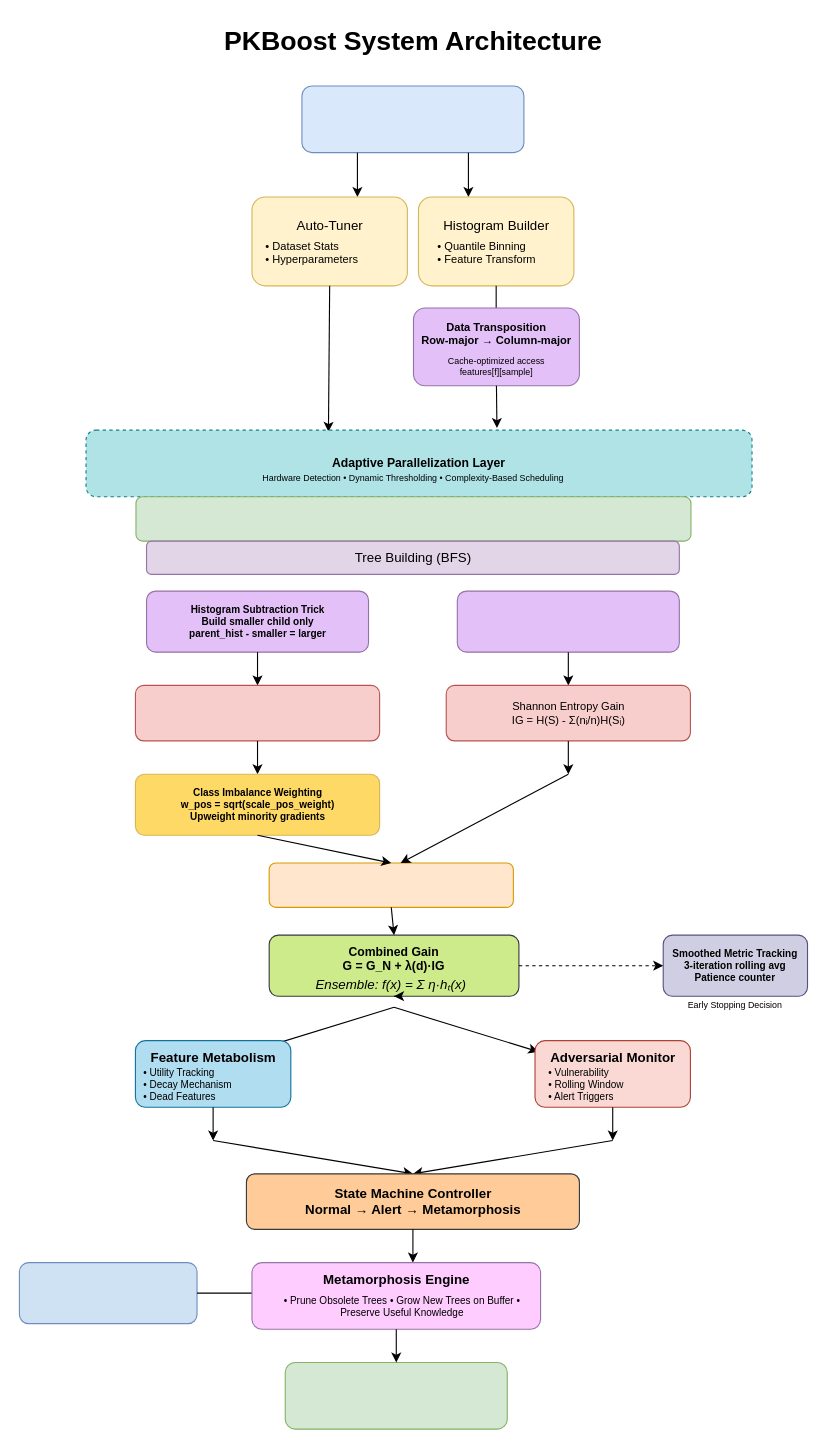
Some shapes in this 827 by 1449 pixel diagram are drawn without their labels. Here are the shapes that lost their labels. From the top down, the centre of each, then its label:
At pixel 412 119: "Input Data D = {(xᵢ, yᵢ)}".
At pixel 413 518: "Primary Ensemble (Gradient Boosting)".
At pixel 567 621: "Split Selection Find best threshold".
At pixel 257 712: "Newton Gain G_N = 0.5[GL²/(HL+λ) + GR²/(HR+λ) - G²/H]".
At pixel 390 884: "Adaptive Weighting λ(d) = μ·exp(-β·d)".
At pixel 107 1293: "Rolling Buffer (FIFO Queue) Size: 10K-20K samples Maintains recent distribution".
At pixel 395 1395: "Adapted Model f'(x) → [0,1]".
